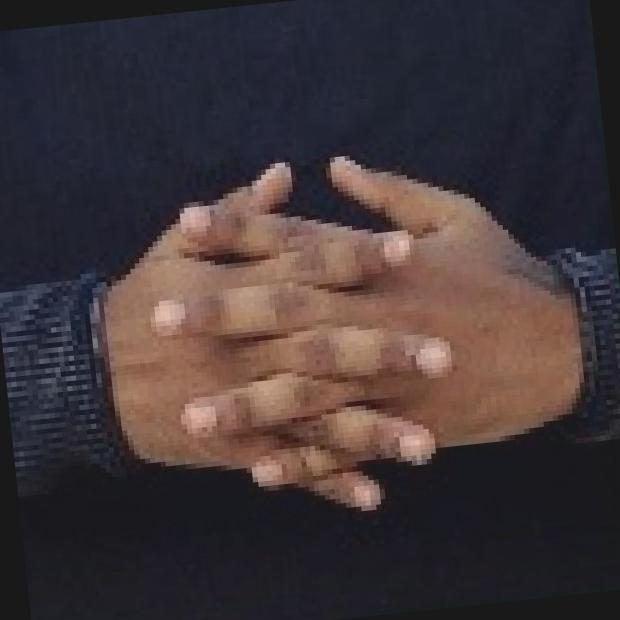V: (75, 122, 550, 549)
